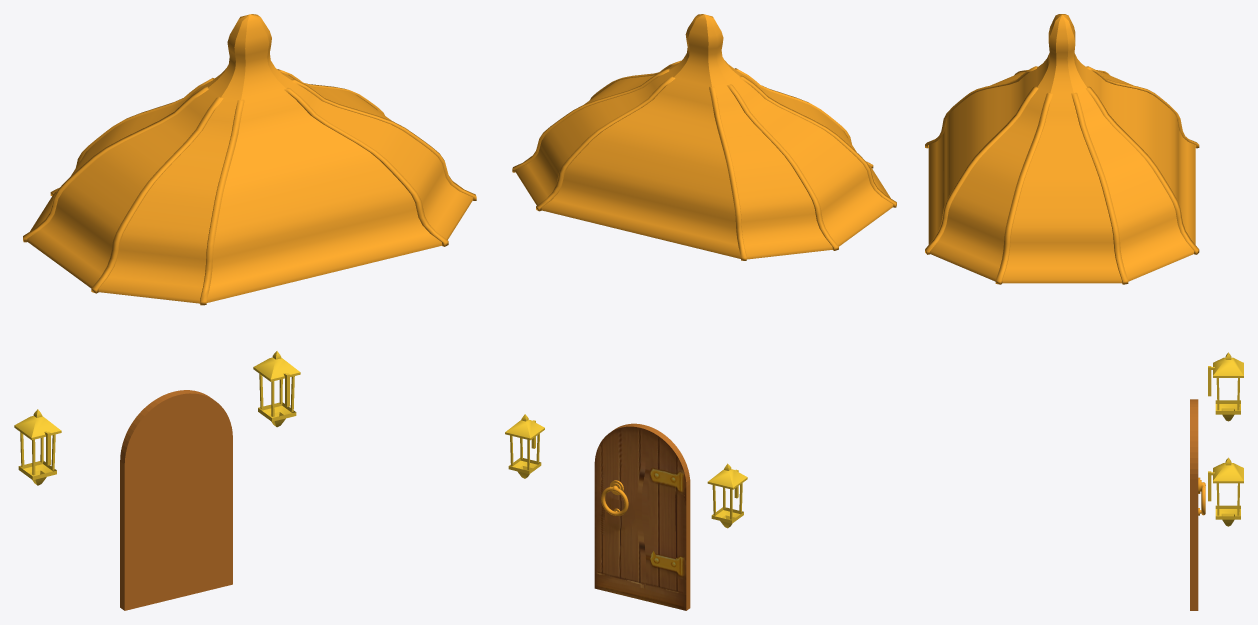
File: HaloDomeHouse_03_deco.glb
The picture shows the model from 3 angles, left to right: view 1: azimuth 30°, elevation 25°; view 2: azimuth 150°, elevation 25°; view 3: azimuth 270°, elevation 25°; orthographic projection. The views are drawn at different scales.
Parts seen in each view (by area): view 1: HaloDomeHouse_03_Dome, HaloDomeHouse_03_Leaf, HaloDomeHouse_03_DomeRibs, HaloDomeHouse_03_Lantern1, HaloDomeHouse_03_Lantern0; view 2: HaloDomeHouse_03_Dome, HaloDomeHouse_03_Leaf, HaloDomeHouse_03_DomeRibs, HaloDomeHouse_03_Lantern1, HaloDomeHouse_03_Lantern0; view 3: HaloDomeHouse_03_Dome, HaloDomeHouse_03_DomeRibs, HaloDomeHouse_03_Leaf, HaloDomeHouse_03_Lantern0, HaloDomeHouse_03_Lantern1.
Boxes of the visible parts, bbox=[...] form: HaloDomeHouse_03_Dome: bbox=[27, 14, 473, 303]; HaloDomeHouse_03_Leaf: bbox=[120, 390, 232, 610]; HaloDomeHouse_03_DomeRibs: bbox=[23, 69, 476, 305]; HaloDomeHouse_03_Lantern1: bbox=[14, 409, 61, 485]; HaloDomeHouse_03_Lantern0: bbox=[253, 351, 300, 427]; HaloDomeHouse_03_Dome: bbox=[515, 14, 893, 259]; HaloDomeHouse_03_Leaf: bbox=[594, 423, 690, 610]; HaloDomeHouse_03_DomeRibs: bbox=[512, 60, 896, 260]; HaloDomeHouse_03_Lantern1: bbox=[707, 463, 747, 528]; HaloDomeHouse_03_Lantern0: bbox=[505, 414, 544, 478]; HaloDomeHouse_03_Dome: bbox=[928, 14, 1195, 283]; HaloDomeHouse_03_DomeRibs: bbox=[925, 66, 1199, 284]; HaloDomeHouse_03_Leaf: bbox=[1190, 399, 1198, 610]; HaloDomeHouse_03_Lantern0: bbox=[1208, 457, 1243, 526]; HaloDomeHouse_03_Lantern1: bbox=[1208, 352, 1243, 421].
Bounding box in the file's own units: 15.27 × 24.12 × 12.18.
Materials: 4 (1 with a texture image).
